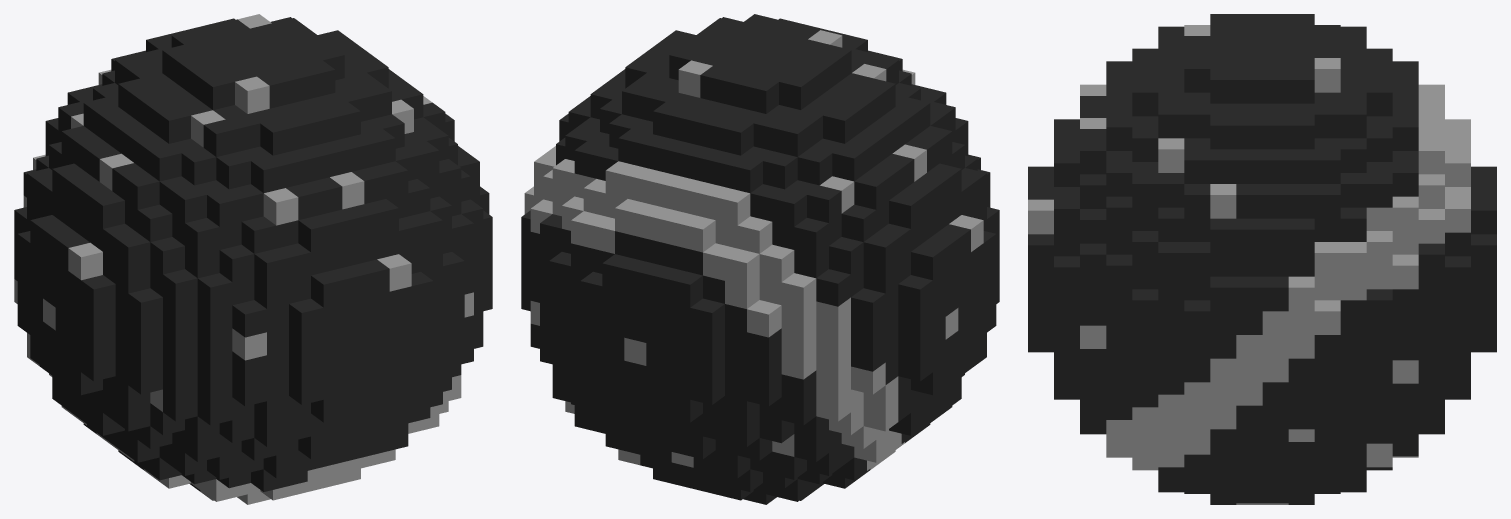
The model's file is темный шар для босса.obj.
3 views of the same model, side by side, from view 1: azimuth 30°, elevation 25°; view 2: azimuth 150°, elevation 25°; view 3: azimuth 270°, elevation 25° (orthographic). The views are drawn at different scales.
Size of the model in its own units: 1.8 by 1.8 by 1.8.
Materials: 1 (1 with a texture image).
